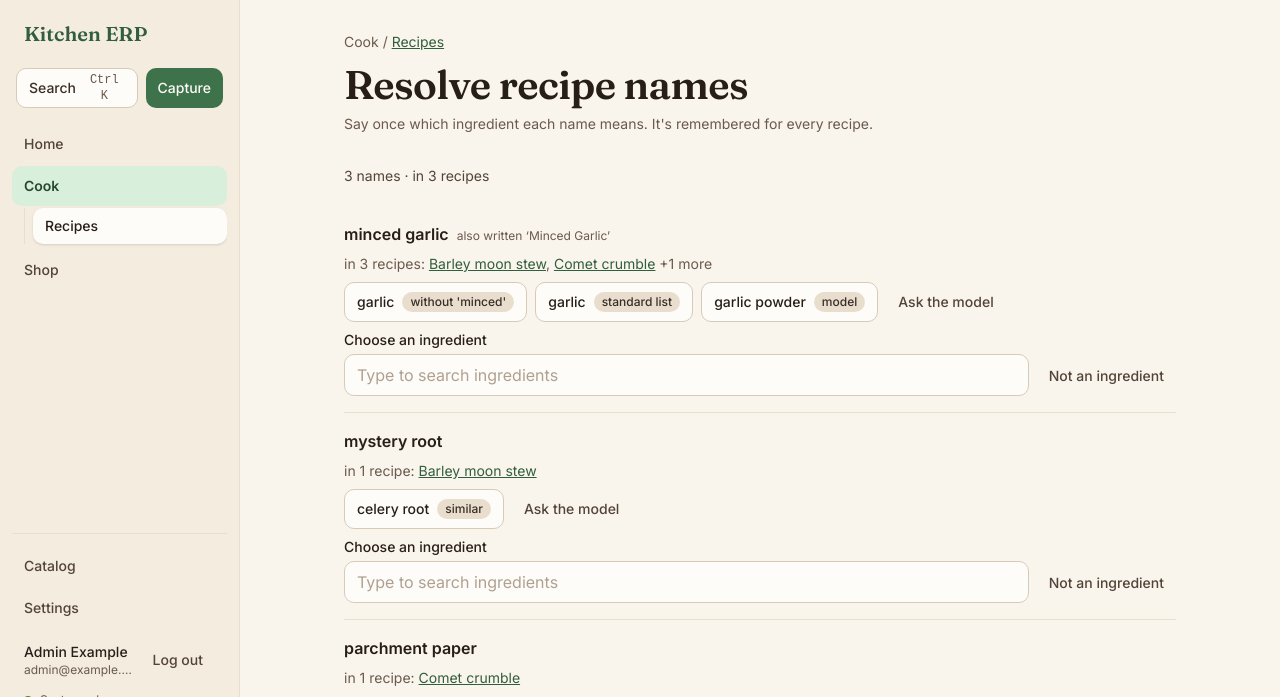
Test case: the resolve page (UI-7.16) › a collision shows the holder with Use {holder}, which re-posts with that id, and Choose another gives the picker back
This screenshot has width=1280, height=697.
Type "scal" into the dropdown labelled "Choose an ingredient" below "also written" at (686, 375), box [344, 354, 1029, 396]
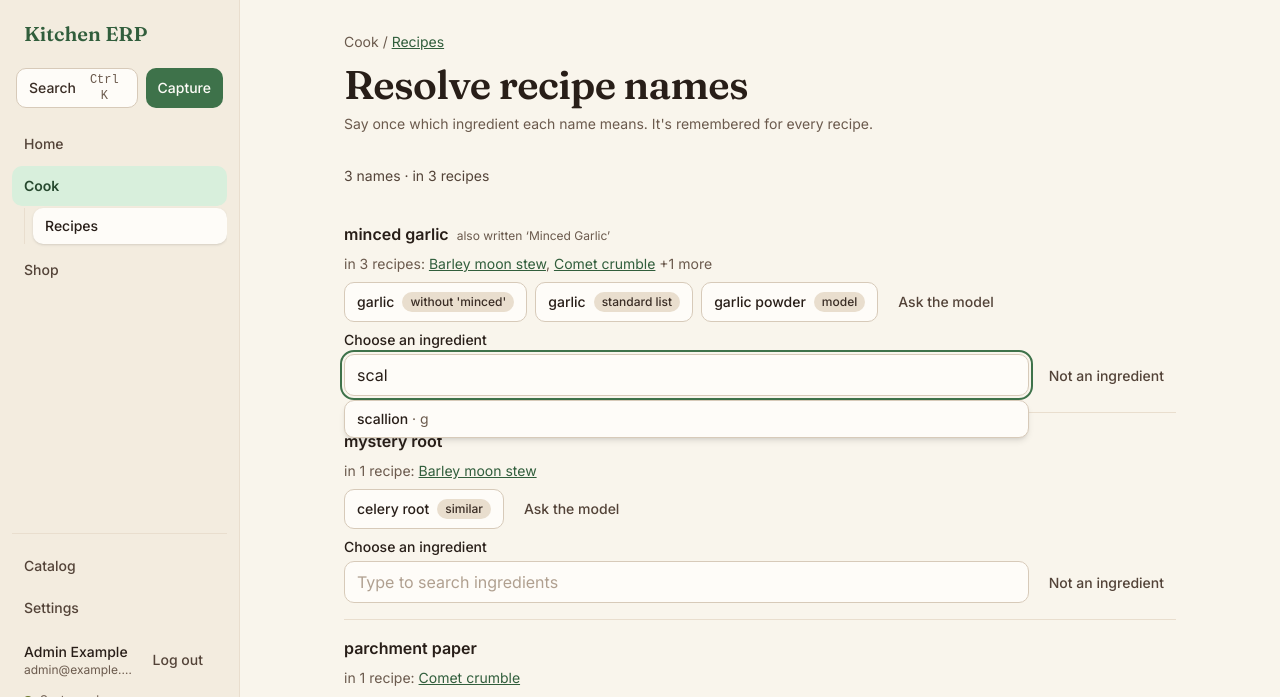
Check: the option "scallion · g" is shown, box [357, 410, 429, 427]
Press Arrowdown Enter
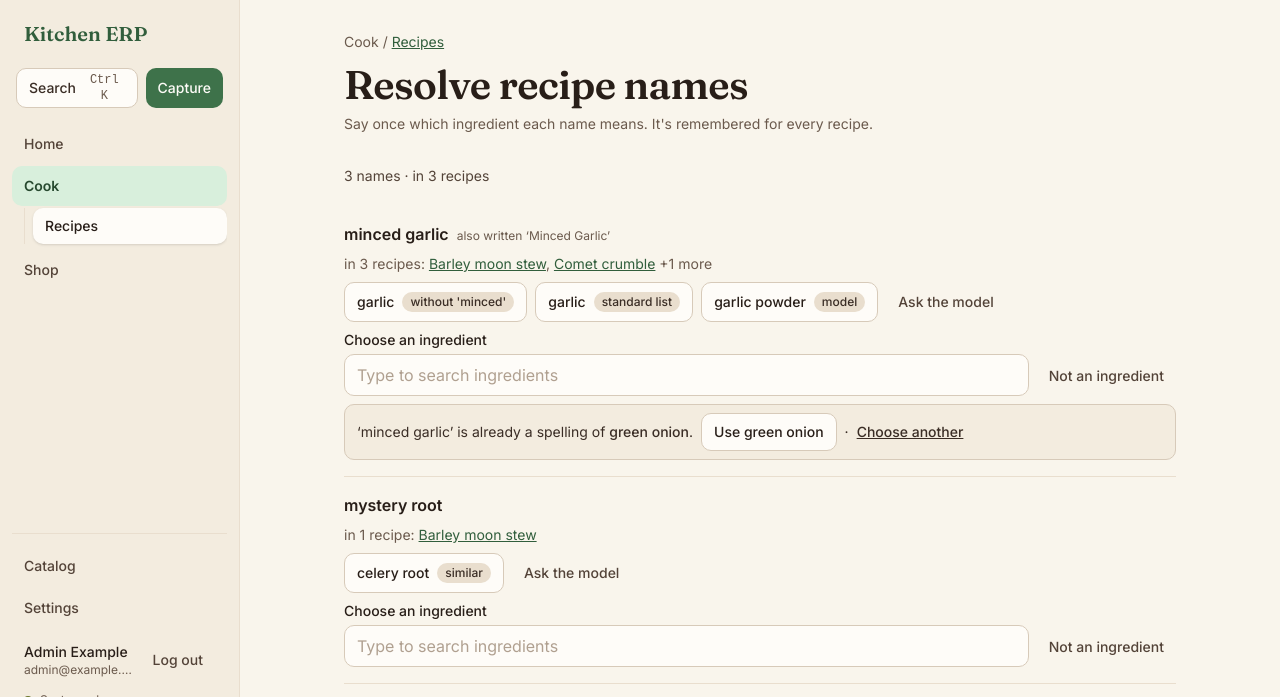
Check: the dropdown labelled "Choose an ingredient" below "also written" is shown, box [344, 354, 1029, 396]
Check: the element with test id "alias-collision" shows "‘minced garlic’ is already a spelling of green onion.", box [357, 413, 963, 451]
Click the button "Choose another" at (910, 432), box [857, 422, 963, 442]
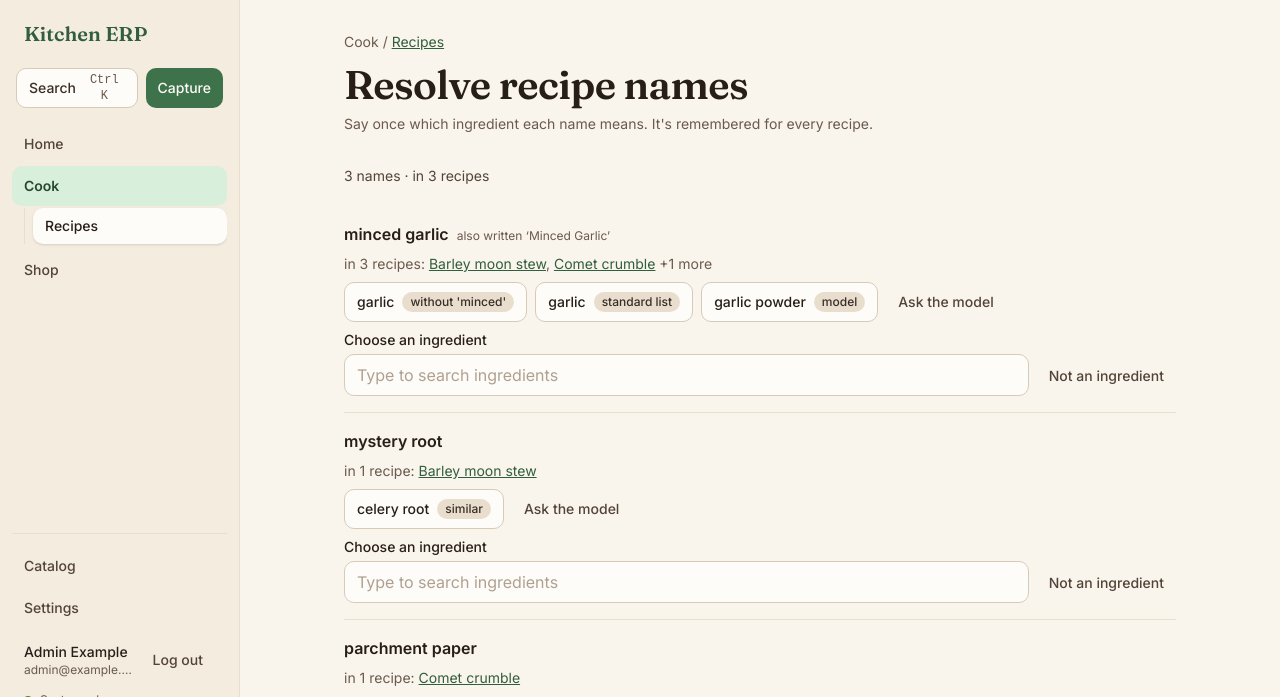
Check: the element with test id "alias-collision" is gone
Type "scal" into the dropdown labelled "Choose an ingredient" below "also written" at (686, 375), box [344, 354, 1029, 396]
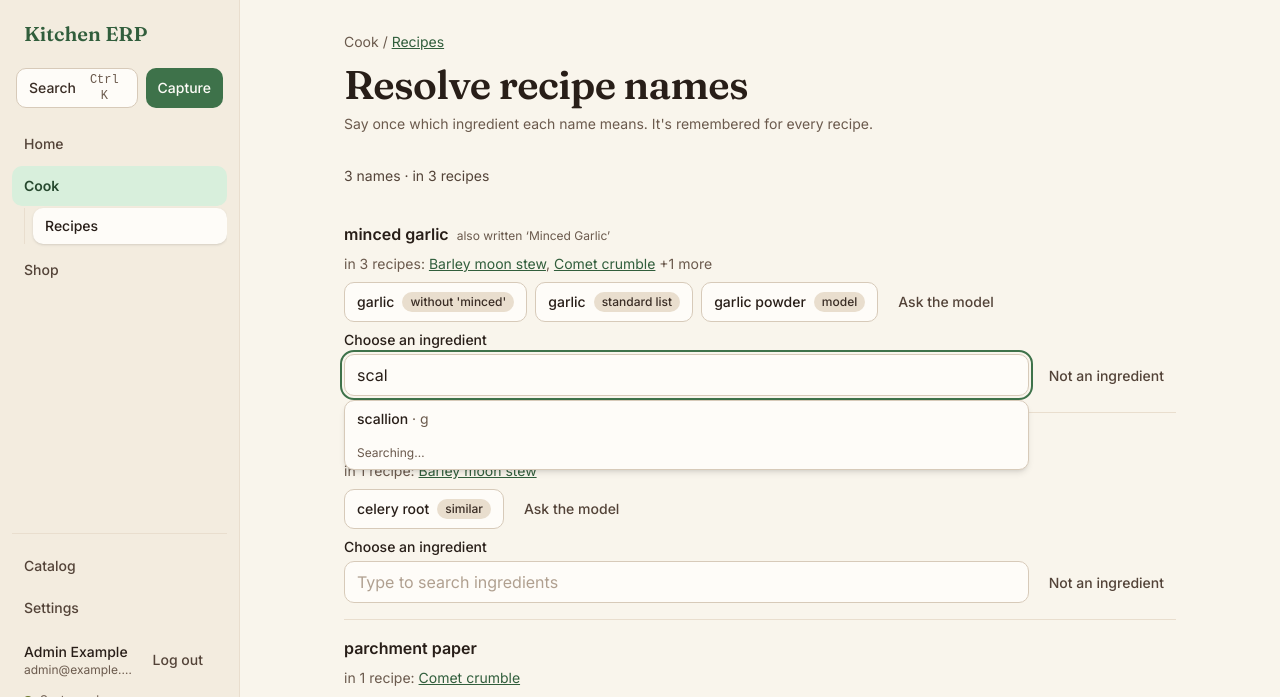
Check: the option "scallion · g" is shown, box [357, 410, 429, 427]
Press Arrowdown Enter
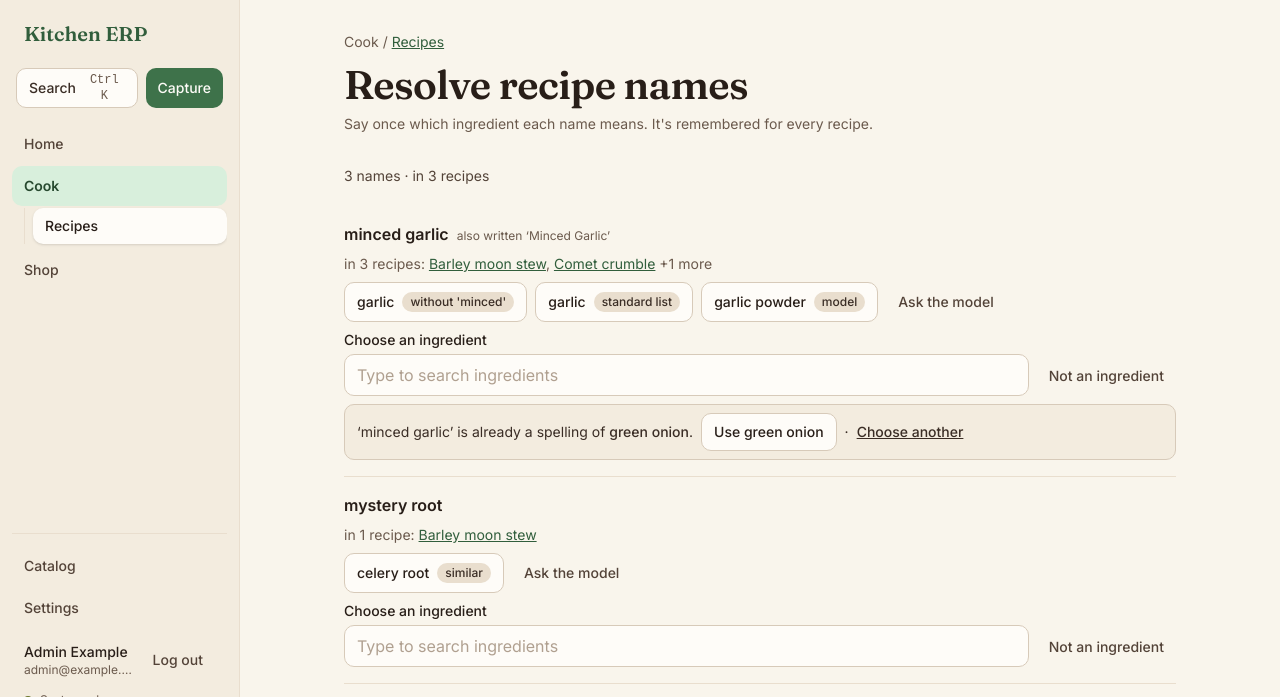
Click the button "Use green onion" at (769, 432), box [701, 413, 837, 451]
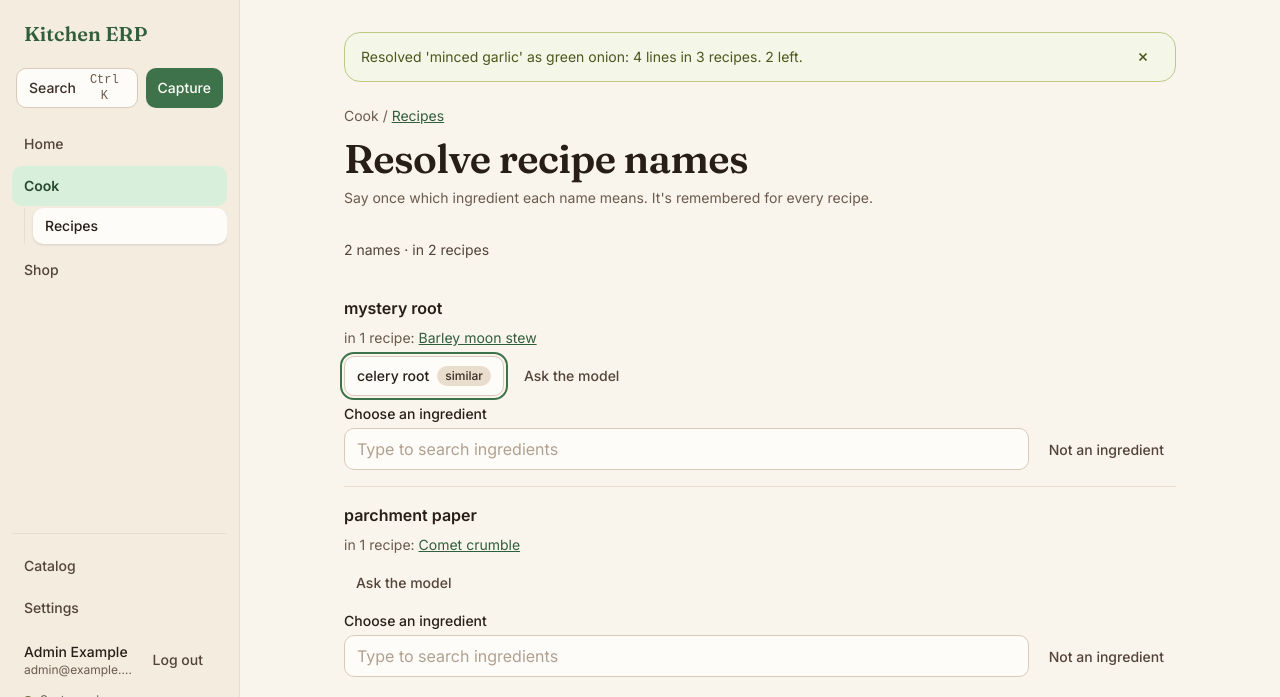
Check: the number of list items with test id "resolve-row" is 2, box [344, 280, 1176, 487]; [344, 487, 1176, 693]
Check: the message with test id "notice" shows "Resolved 'minced garlic' as green onion", box [361, 48, 803, 65]
